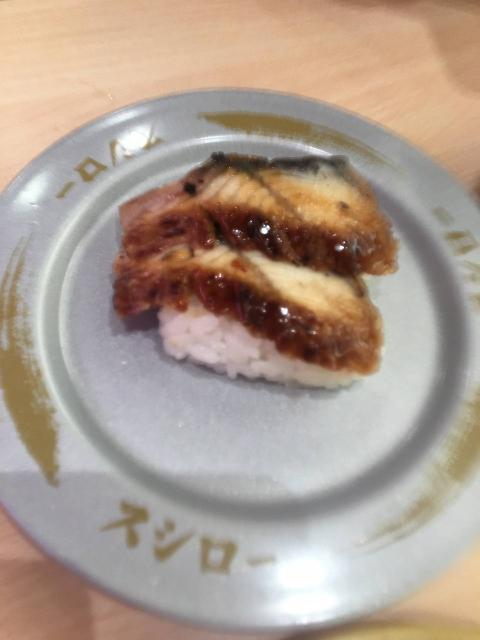janwhite: (0, 116, 480, 598)
